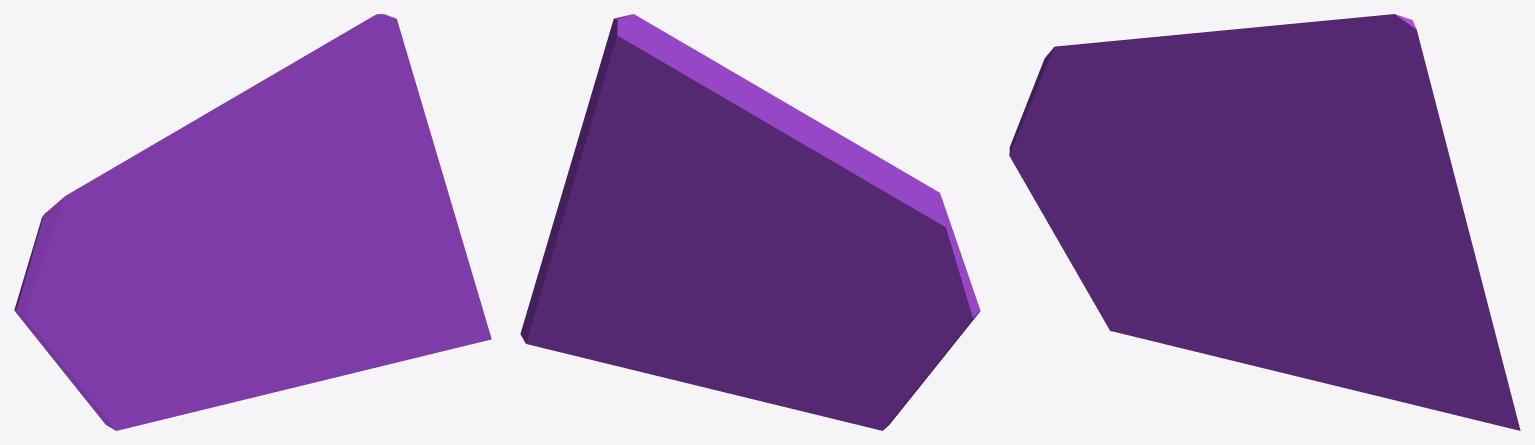
The model's file is Glass_113_5_chunks.fbx.
The picture shows the model from 3 angles, left to right: view 1: azimuth 30°, elevation 25°; view 2: azimuth 150°, elevation 25°; view 3: azimuth 330°, elevation 25°; orthographic projection. The views are drawn at different scales.
Visible parts, largest first — view 1: Glass_113_5_3, Glass_113_5_1, Glass_113_5_0, Glass_113_5_4, Glass_113_5_6, Glass_113_5_2, Glass_113_5_8, Glass_113_5_9; view 2: Glass_113_5_1, Glass_113_5_3, Glass_113_5_4, Glass_113_5_2, Glass_113_5_0, Glass_113_5_6, Glass_113_5_9, Glass_113_5_7, Glass_113_5_8, Glass_113_5_5; view 3: Glass_113_5_3, Glass_113_5_0, Glass_113_5_1, Glass_113_5_4, Glass_113_5_6, Glass_113_5_2, Glass_113_5_8, Glass_113_5_9.
Boxes of the visible parts, left/top/right/bottom form: Glass_113_5_3: left=252, top=223, right=491, bottom=397; Glass_113_5_1: left=14, top=149, right=201, bottom=377; Glass_113_5_0: left=63, top=223, right=221, bottom=430; Glass_113_5_4: left=265, top=122, right=457, bottom=265; Glass_113_5_6: left=145, top=99, right=292, bottom=228; Glass_113_5_2: left=221, top=206, right=307, bottom=405; Glass_113_5_8: left=285, top=53, right=427, bottom=195; Glass_113_5_9: left=231, top=14, right=406, bottom=128; Glass_113_5_1: left=783, top=147, right=980, bottom=384; Glass_113_5_3: left=520, top=220, right=743, bottom=396; Glass_113_5_4: left=554, top=121, right=739, bottom=263; Glass_113_5_2: left=697, top=204, right=796, bottom=409; Glass_113_5_0: left=796, top=261, right=939, bottom=430; Glass_113_5_6: left=703, top=98, right=861, bottom=225; Glass_113_5_9: left=603, top=14, right=776, bottom=125; Glass_113_5_7: left=598, top=52, right=712, bottom=157; Glass_113_5_8: left=583, top=53, right=706, bottom=186; Glass_113_5_5: left=664, top=263, right=709, bottom=315; Glass_113_5_3: left=1259, top=252, right=1520, bottom=430; Glass_113_5_0: left=1051, top=149, right=1225, bottom=358; Glass_113_5_1: left=1009, top=38, right=1202, bottom=228; Glass_113_5_4: left=1273, top=159, right=1482, bottom=285; Glass_113_5_6: left=1141, top=29, right=1302, bottom=165; Glass_113_5_2: left=1224, top=164, right=1318, bottom=366; Glass_113_5_8: left=1295, top=73, right=1449, bottom=163; Glass_113_5_9: left=1235, top=14, right=1427, bottom=94.
Size of the model in its own units: 838 by 601 by 27.2.
